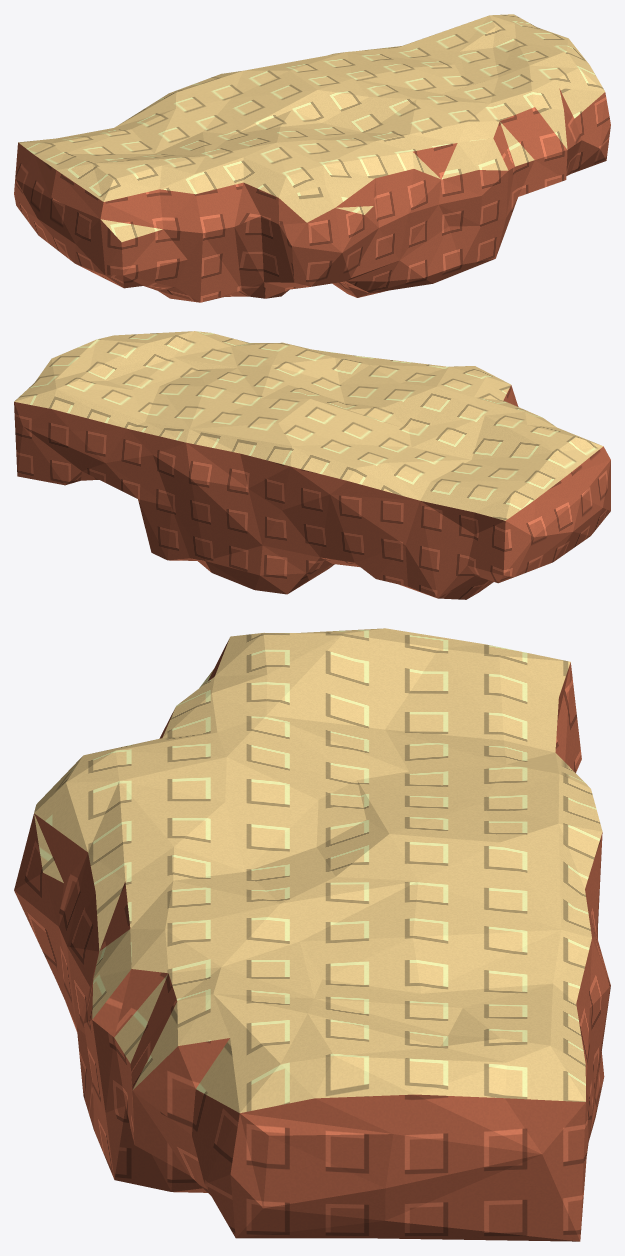
Rendered from DesertOverhang.glb.
The picture shows the model from 3 angles, top to bottom: view 1: azimuth 30°, elevation 25°; view 2: azimuth 150°, elevation 25°; view 3: azimuth 270°, elevation 25°; orthographic projection. The views are drawn at different scales.
Visible parts, largest first — view 1: DesertOverhang_Top, DesertOverhang_Rock; view 2: DesertOverhang_Top, DesertOverhang_Rock; view 3: DesertOverhang_Top, DesertOverhang_Rock.
Boxes of the visible parts, left/top/right/bottom form: DesertOverhang_Top: left=18, top=14, right=604, bottom=242; DesertOverhang_Rock: left=14, top=88, right=610, bottom=302; DesertOverhang_Top: left=14, top=331, right=603, bottom=520; DesertOverhang_Rock: left=14, top=385, right=610, bottom=599; DesertOverhang_Top: left=34, top=628, right=602, bottom=1112; DesertOverhang_Rock: left=14, top=639, right=610, bottom=1241.
Bounding box in the file's own units: 14.32 × 4.16 × 7.54.
Materials: 2 (2 with a texture image).
